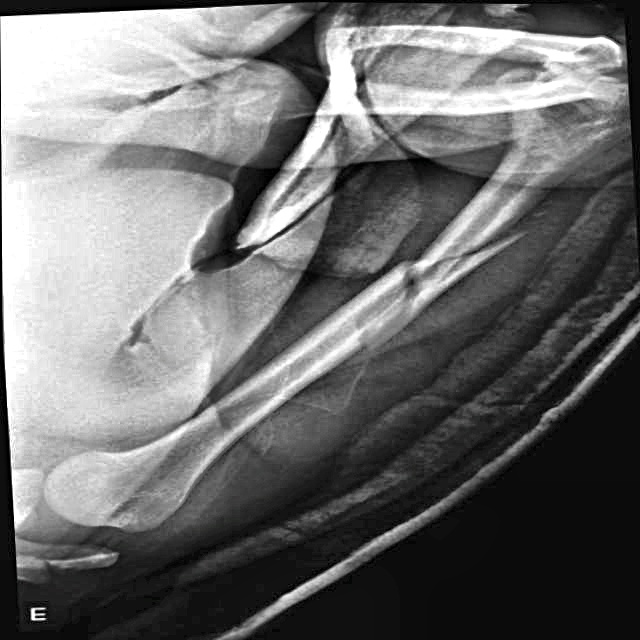Spiral: (307, 219, 563, 380)
